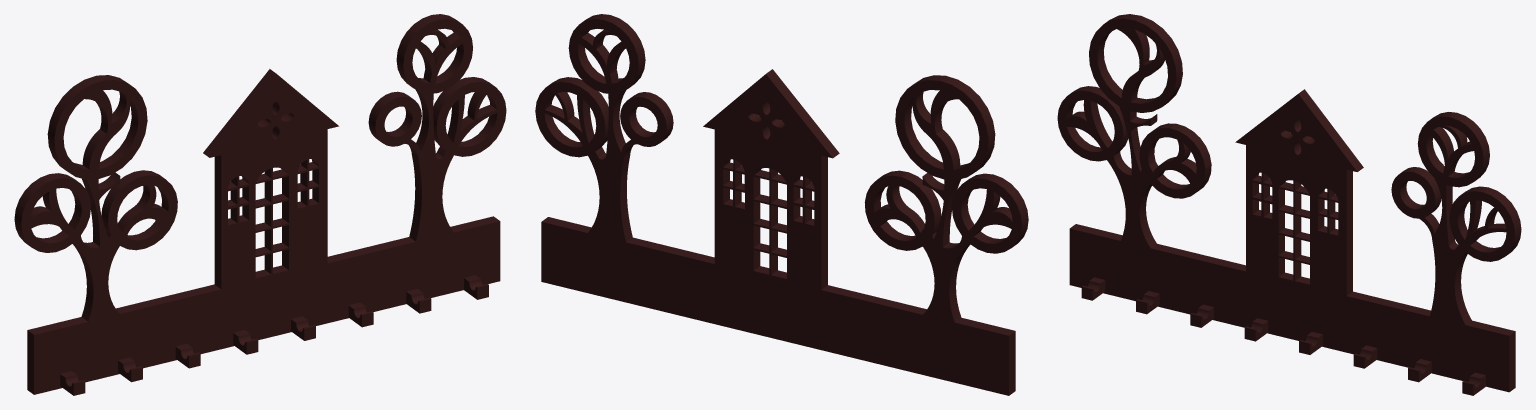
3 renders of one model, left to right at view 1: azimuth 30°, elevation 25°; view 2: azimuth 150°, elevation 25°; view 3: azimuth 330°, elevation 25°, orthographic. The views are drawn at different scales.
Parts seen in each view (by area): view 1: Layer0_001; view 2: Layer0_001; view 3: Layer0_001.
Part boxes in pixels (x1,y1,x2,y2): Layer0_001: (14, 14, 506, 395); Layer0_001: (535, 14, 1028, 395); Layer0_001: (1057, 14, 1521, 395).
Size of the model in its own units: 16.39 by 9.6 by 1.18.
